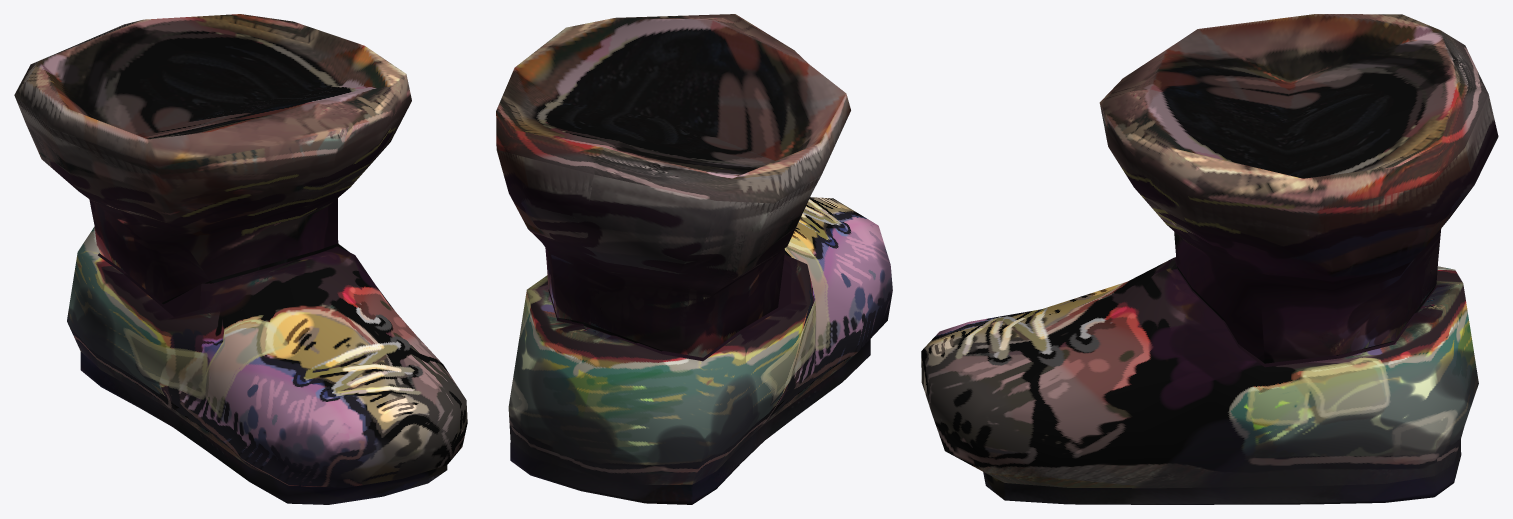
The model's file is botinok1.fbx.
The picture shows the model from 3 angles, left to right: view 1: azimuth 30°, elevation 25°; view 2: azimuth 150°, elevation 25°; view 3: azimuth 270°, elevation 25°; orthographic projection. The views are drawn at different scales.
Parts seen in each view (by area): view 1: Botinok1.001, Botinok1; view 2: Botinok1.001, Botinok1; view 3: Botinok1.001, Botinok1.
Part boxes in pixels (bbox=[...]): Botinok1.001: bbox=[14, 14, 411, 304]; Botinok1: bbox=[67, 226, 467, 504]; Botinok1.001: bbox=[496, 14, 850, 357]; Botinok1: bbox=[508, 197, 892, 504]; Botinok1.001: bbox=[1099, 14, 1498, 363]; Botinok1: bbox=[921, 257, 1478, 504].
Size of the model in its own units: 112 by 118 by 164.
Materials: 1 (1 with a texture image).
